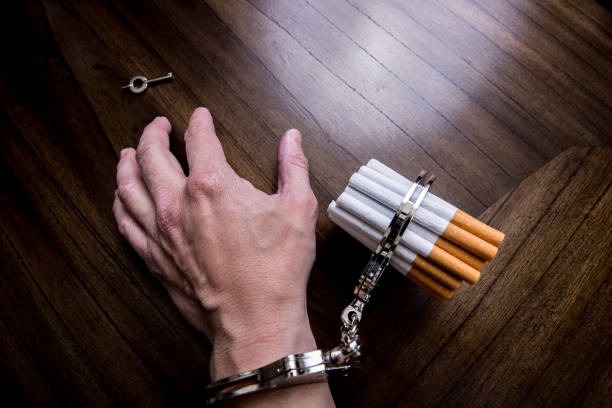cigarette: (336, 191, 483, 284), (346, 171, 499, 260), (325, 198, 466, 291), (342, 184, 488, 271), (357, 163, 506, 245), (328, 214, 458, 300), (366, 159, 480, 223), (388, 261, 449, 303)
